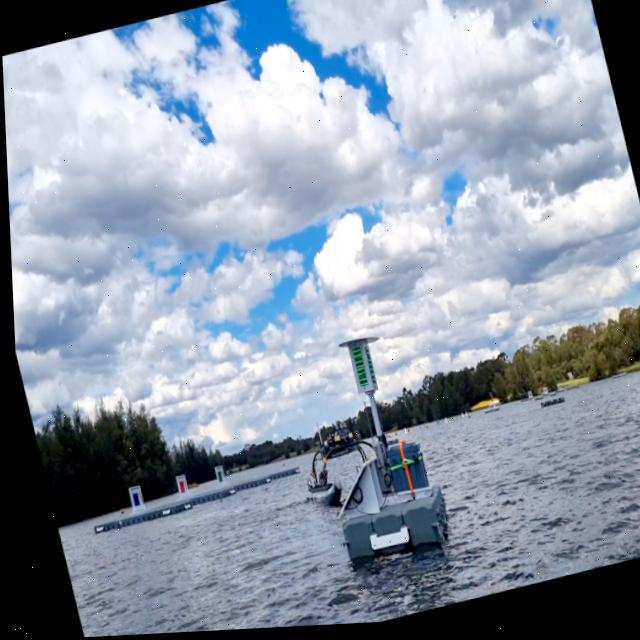led: (346, 346, 368, 396)
